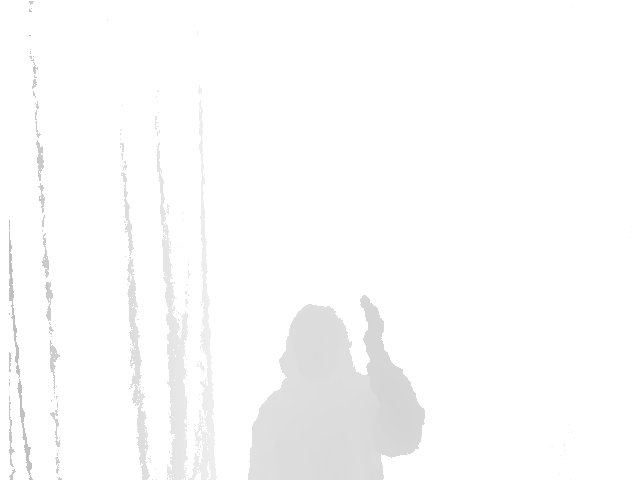hand: (356, 293, 392, 351)
head: (274, 301, 357, 377)
person: (246, 293, 426, 480)
